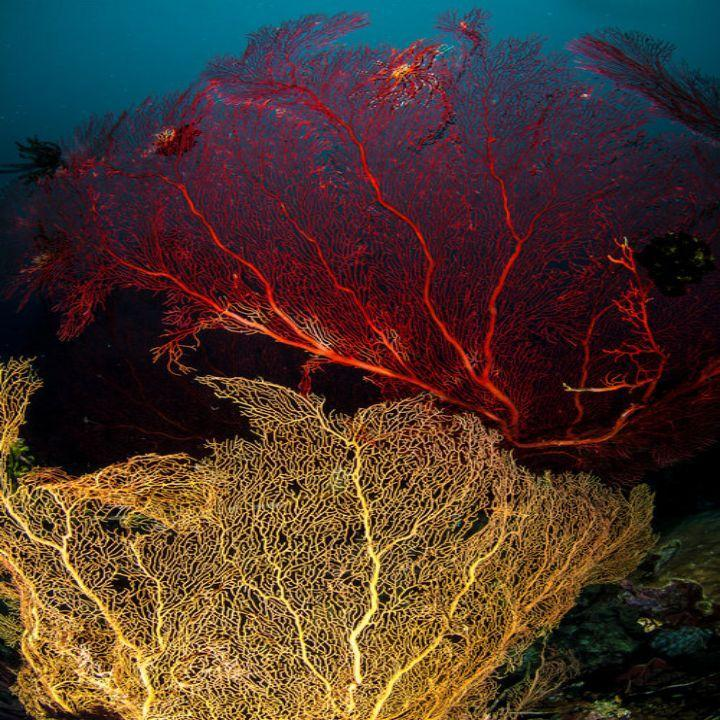Healthy Coral: (13, 377, 706, 703), (26, 65, 680, 348)
